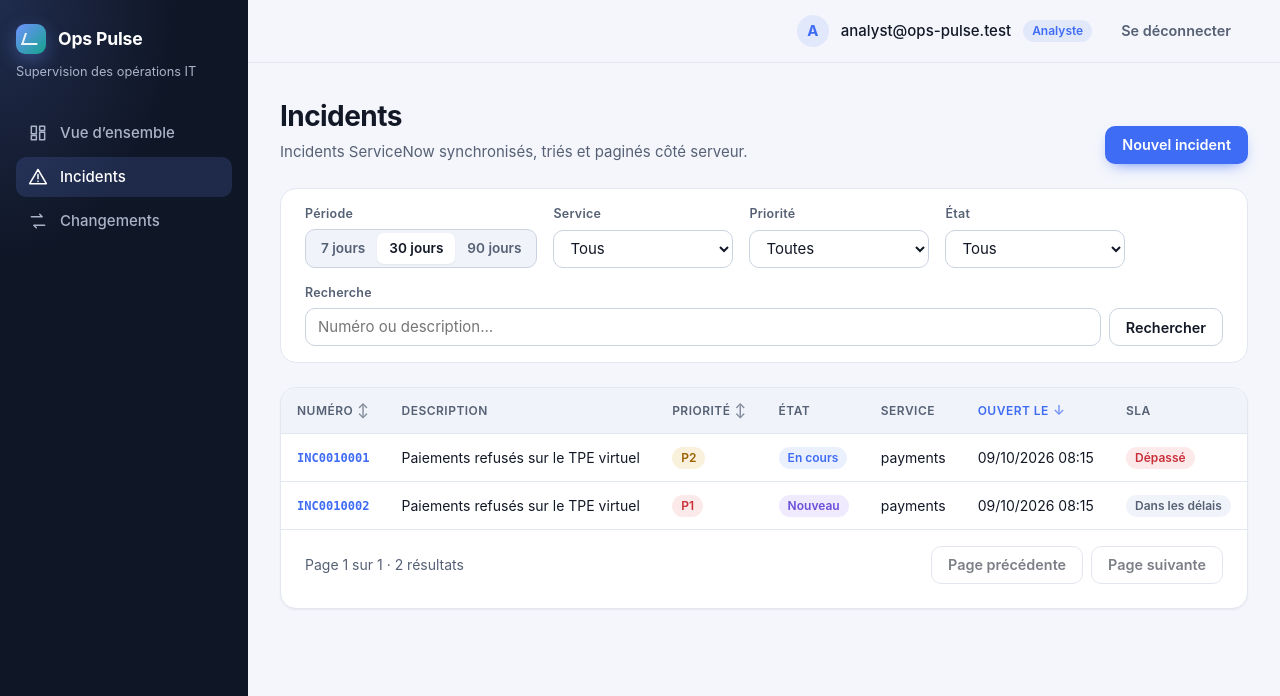
Test: IncidentsPage › lets an analyst change the state of an incident (PATCH)
The width and height of the screenshot is (1280, 696).
Click the button "INC0010001": (333, 458) [297, 447, 369, 469]
(page scrolled)
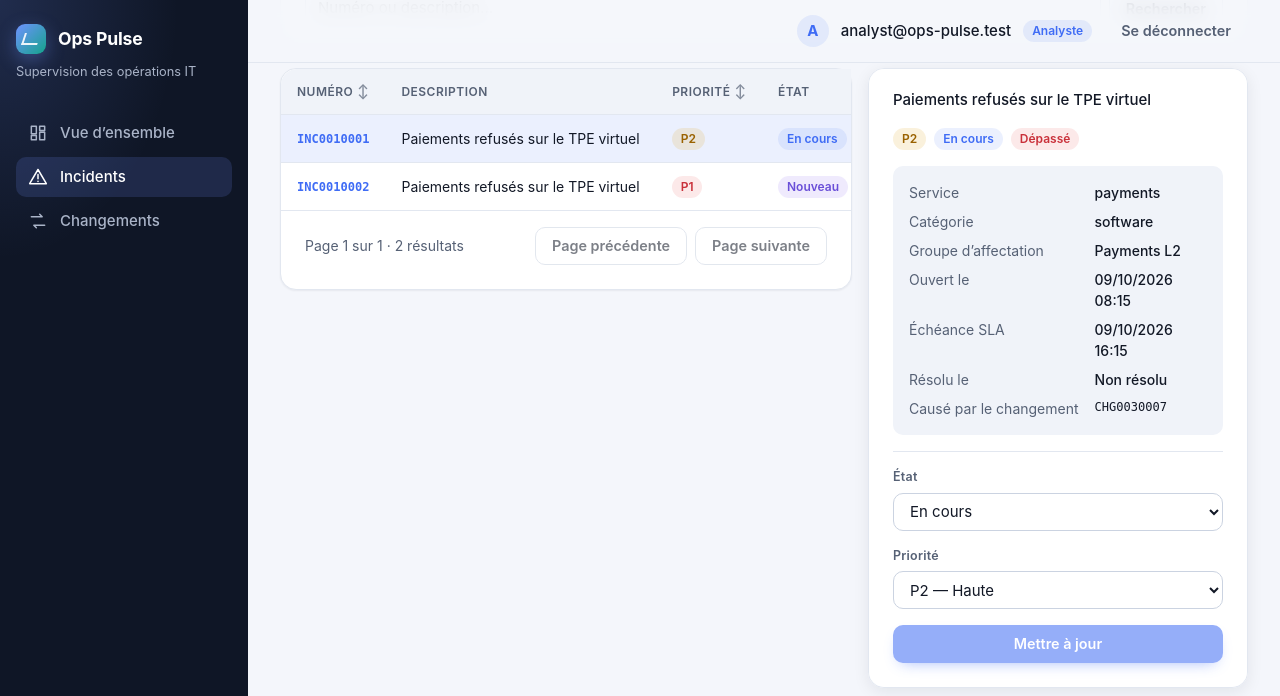
Select "Résolu" in the dropdown labelled "État": (1058, 512) [893, 492, 1223, 530]
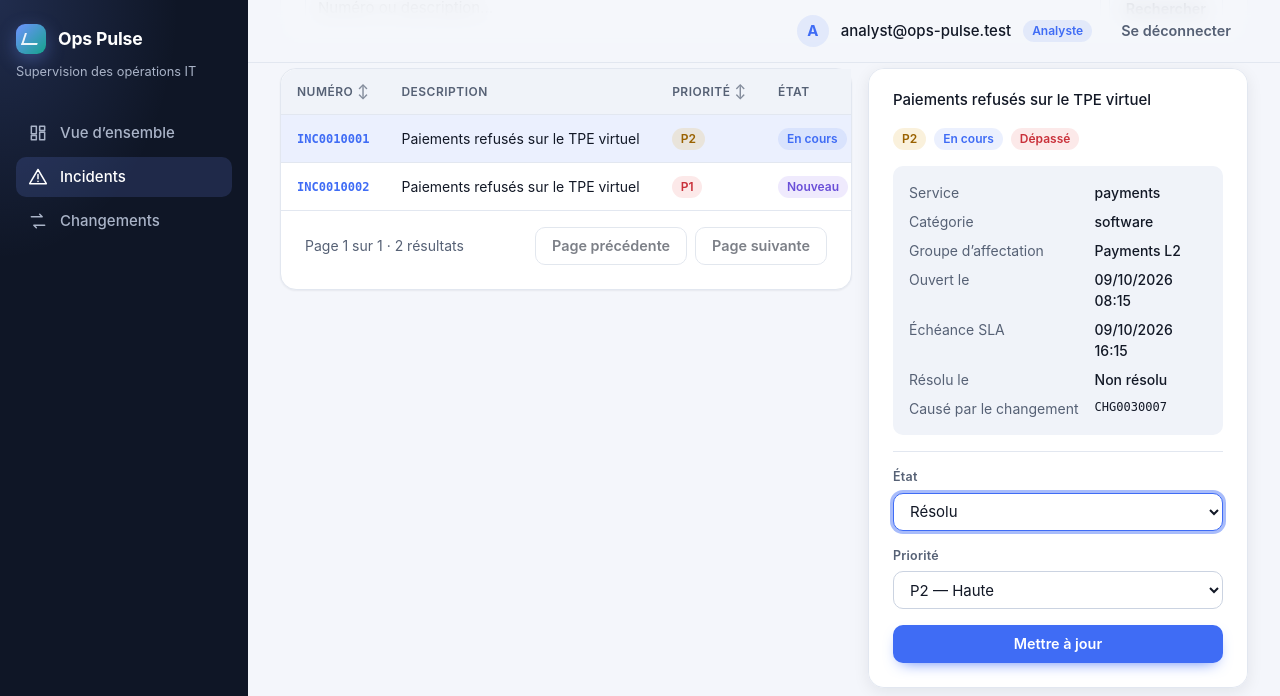
Click the button "Mettre à jour": (1058, 644) [893, 625, 1223, 663]
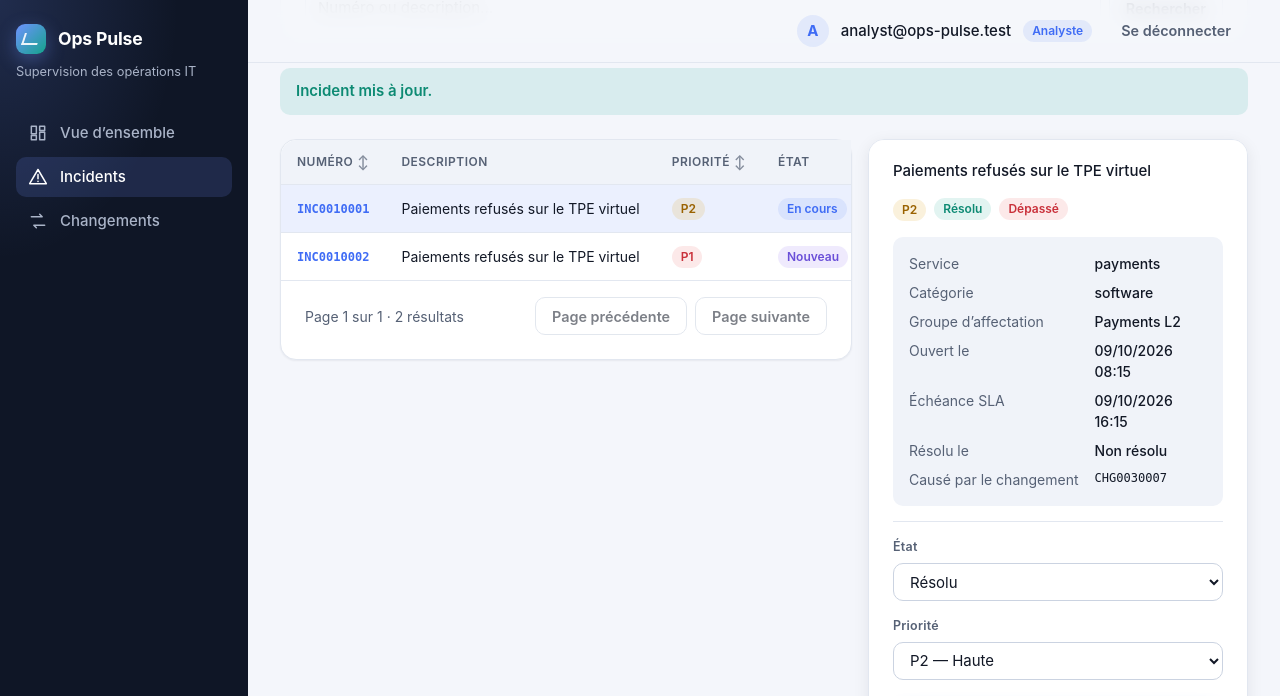
Expected: the text "Incident mis à jour." is shown, [280, 68, 1248, 115]
